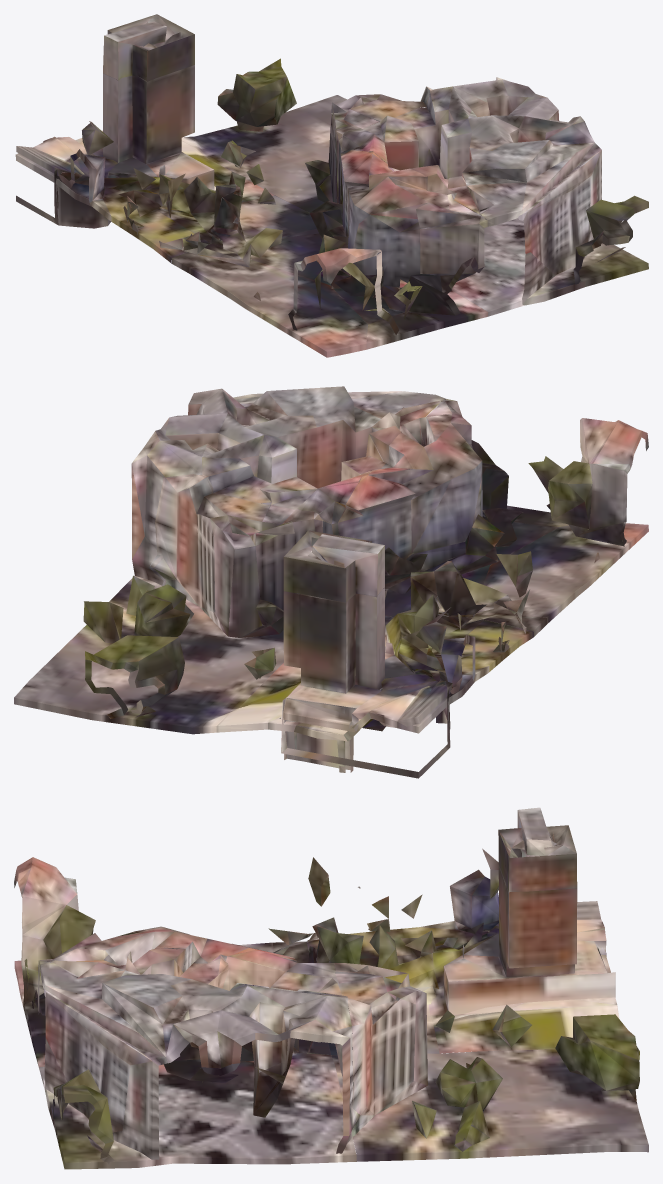
The picture shows the model from 3 angles, top to bottom: view 1: azimuth 30°, elevation 25°; view 2: azimuth 150°, elevation 25°; view 3: azimuth 270°, elevation 25°; orthographic projection. The views are drawn at different scales.
Visible parts, largest first — view 1: Mesh_0; view 2: Mesh_0; view 3: Mesh_0.
Boxes of the visible parts, <box> form: Mesh_0: <box>15,14,648,357</box>; Mesh_0: <box>14,386,648,778</box>; Mesh_0: <box>14,807,648,1169</box>.
Bounding box in the file's own units: 134 × 57.08 × 165.
1 material, 1 textured.
